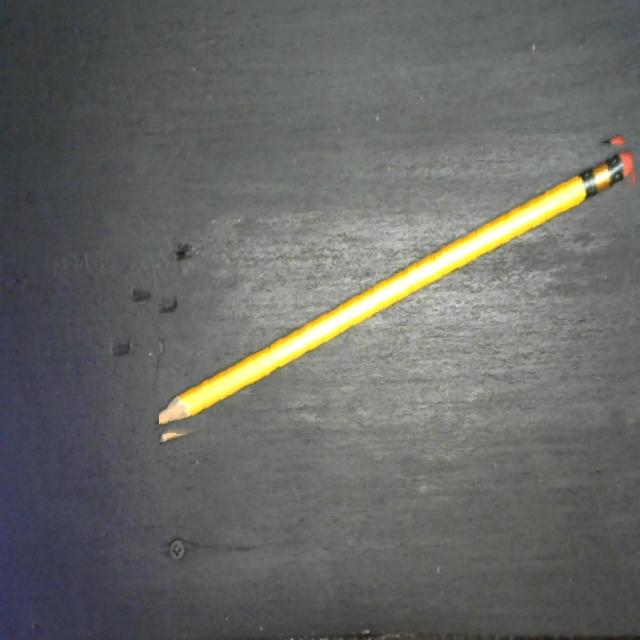biodegradable: (159, 134, 635, 457)
